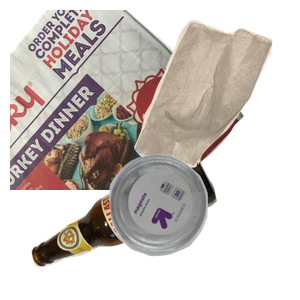glass: (29, 150, 238, 300)
paper: (10, 10, 247, 190)
plastic: (107, 152, 300, 300)
trash: (132, 17, 300, 177)
